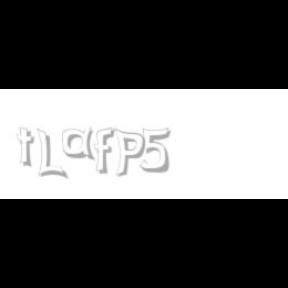5: (140, 128, 170, 174)
L: (37, 128, 65, 180)
P: (114, 128, 146, 178)
a: (62, 128, 100, 160)
f: (94, 128, 118, 174)
t: (17, 128, 39, 168)
